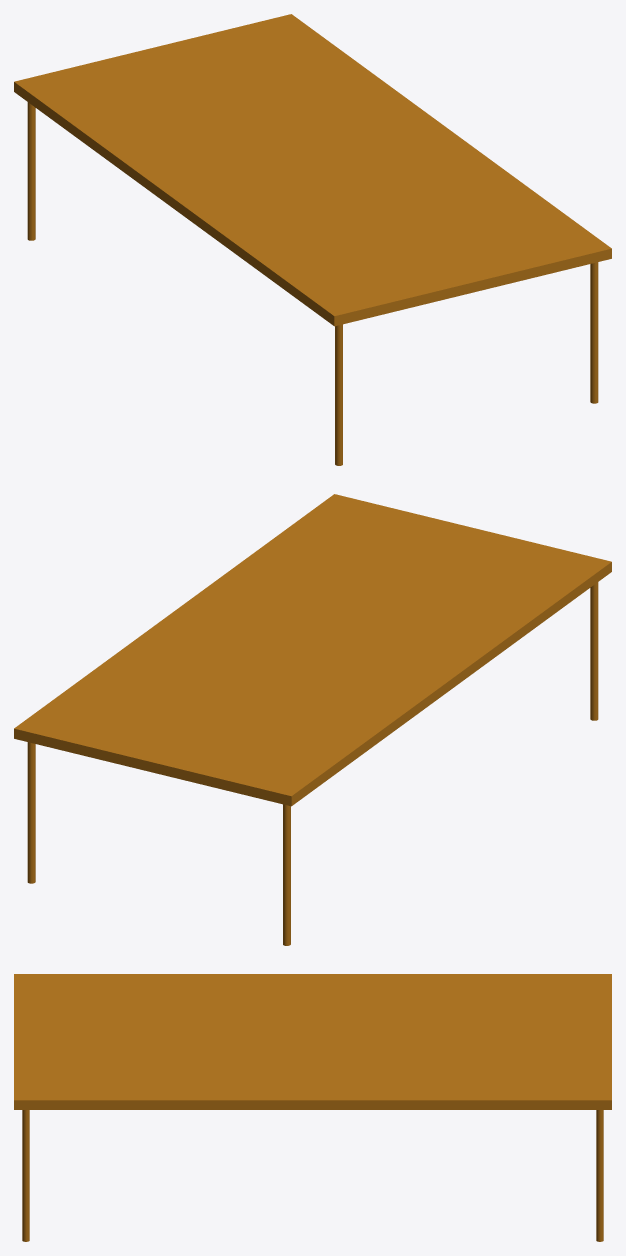
File: Table.fbx
3 views of the same model, one above another, from view 1: azimuth 30°, elevation 25°; view 2: azimuth 150°, elevation 25°; view 3: azimuth 270°, elevation 25° (orthographic). The views are drawn at different scales.
Parts seen in each view (by area): view 1: Cube, Cylinder, Cylinder.002, Cylinder.003; view 2: Cube, Cylinder.001, Cylinder.003, Cylinder.002; view 3: Cube, Cylinder, Cylinder.001.
Boxes of the visible parts, bbox=[...] form: Cube: bbox=[14, 14, 611, 326]; Cylinder: bbox=[590, 262, 598, 403]; Cylinder.002: bbox=[27, 102, 35, 240]; Cylinder.003: bbox=[335, 324, 342, 465]; Cube: bbox=[14, 494, 611, 806]; Cylinder.001: bbox=[27, 742, 35, 883]; Cylinder.003: bbox=[590, 582, 598, 720]; Cylinder.002: bbox=[283, 804, 290, 945]; Cube: bbox=[14, 974, 611, 1109]; Cylinder: bbox=[22, 1110, 29, 1241]; Cylinder.001: bbox=[596, 1110, 603, 1241].
Bounding box in the file's own units: 200 × 107 × 400.
